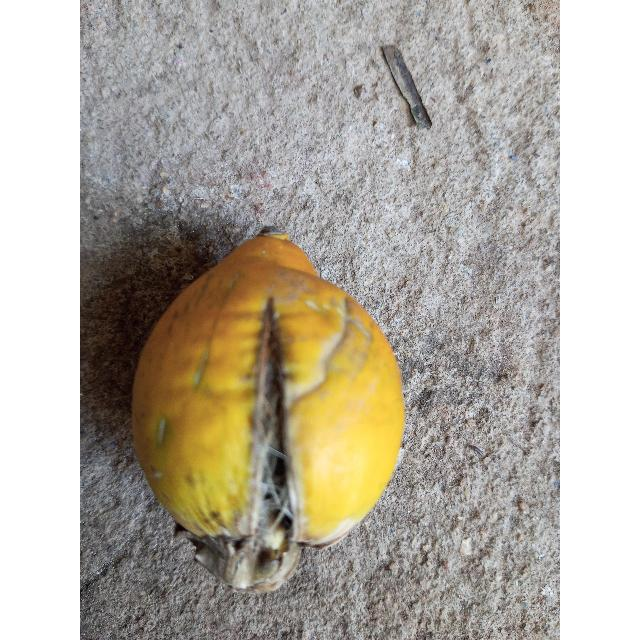damaged: (131, 232, 405, 595)
